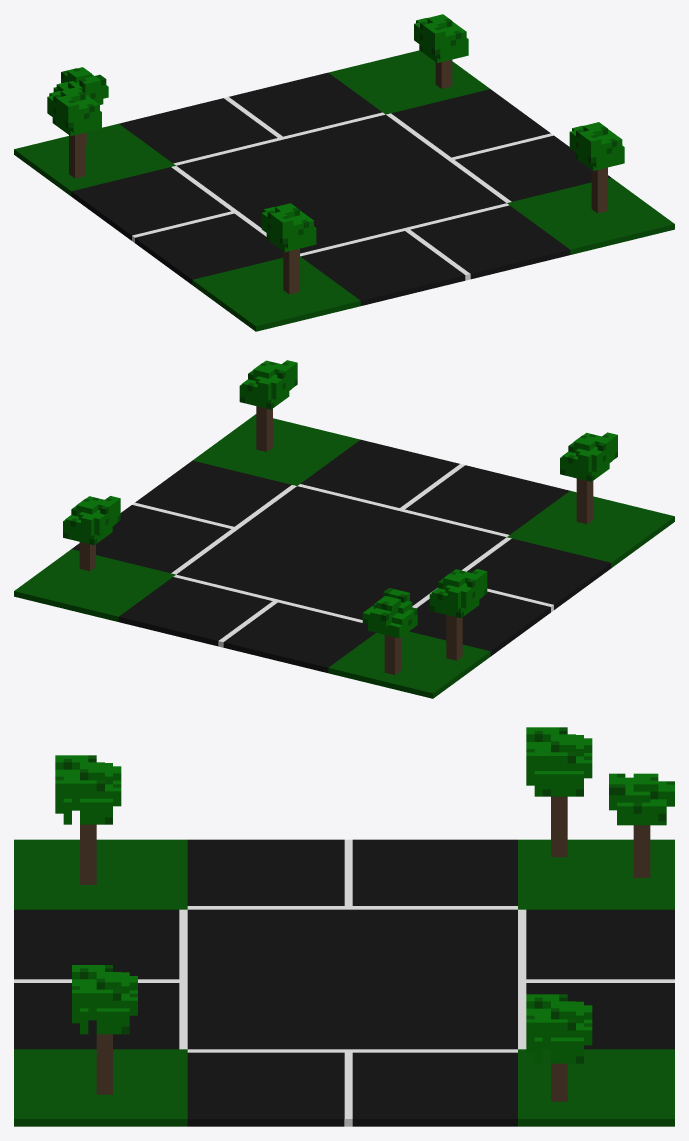
The model's file is Intersection.obj.
3 views of the same model, one above another, from view 1: azimuth 30°, elevation 25°; view 2: azimuth 150°, elevation 25°; view 3: azimuth 270°, elevation 25° (orthographic). The views are drawn at different scales.
Parts seen in each view (by area): view 1: Intersection; view 2: Intersection; view 3: Intersection.
Part boxes in pixels (bbox=[...]): Intersection: bbox=[14, 14, 674, 331]; Intersection: bbox=[14, 360, 674, 698]; Intersection: bbox=[14, 727, 674, 1126].
Size of the model in its own units: 80 by 16 by 80.
1 material, 1 textured.
